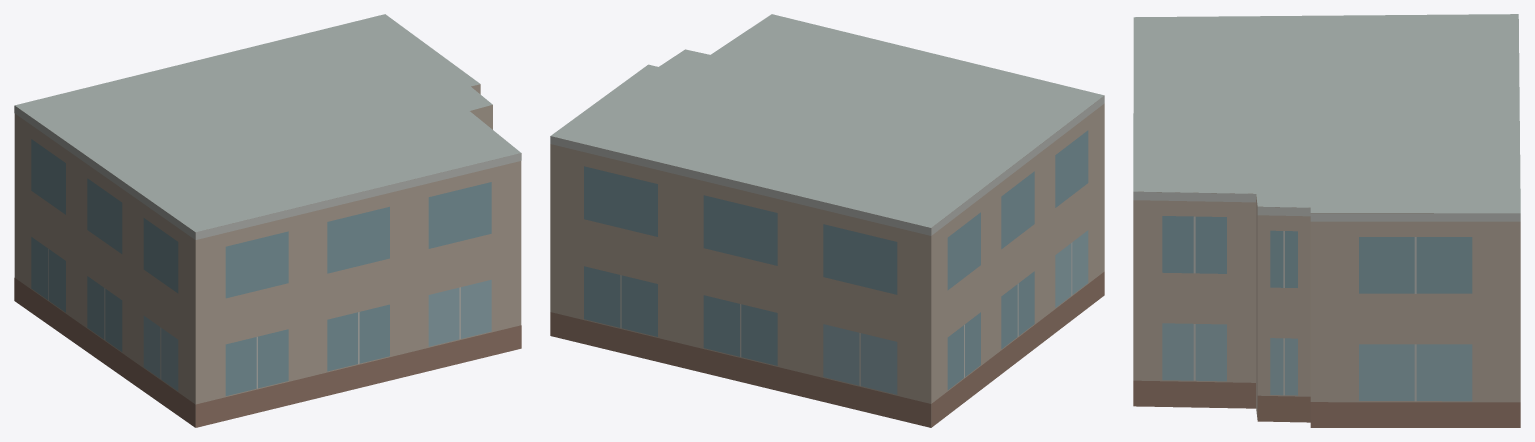
The model's file is survey-upis-32711677.glb.
3 renders of one model, left to right at view 1: azimuth 30°, elevation 25°; view 2: azimuth 150°, elevation 25°; view 3: azimuth 270°, elevation 25°, orthographic. The views are drawn at different scales.
Parts seen in each view (by area): view 1: survey-upis-32711677.tmp; view 2: survey-upis-32711677.tmp; view 3: survey-upis-32711677.tmp.
Boxes of the visible parts, <box> form: survey-upis-32711677.tmp: <box>14,14,521,427</box>; survey-upis-32711677.tmp: <box>550,14,1104,427</box>; survey-upis-32711677.tmp: <box>1133,14,1520,427</box>.
Bounding box in the file's own units: 12.14 × 6.1 × 9.99.
